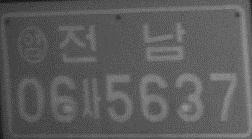0: (15, 76, 46, 125)
3: (174, 71, 206, 123)
5: (104, 73, 135, 123)
6: (138, 72, 169, 124), (48, 74, 80, 123)
7: (209, 72, 237, 122)
사: (80, 77, 103, 121)
영: (15, 25, 49, 65)
전남_D: (57, 23, 187, 65)
